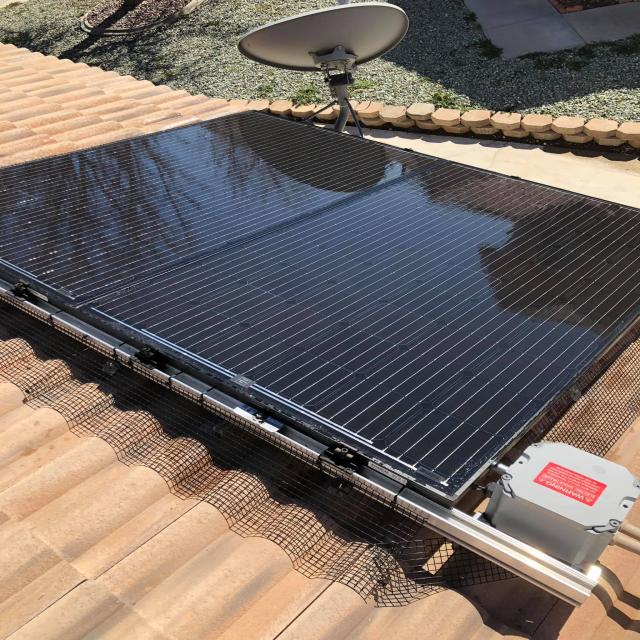clean-solar-panel: (2, 114, 638, 501)
